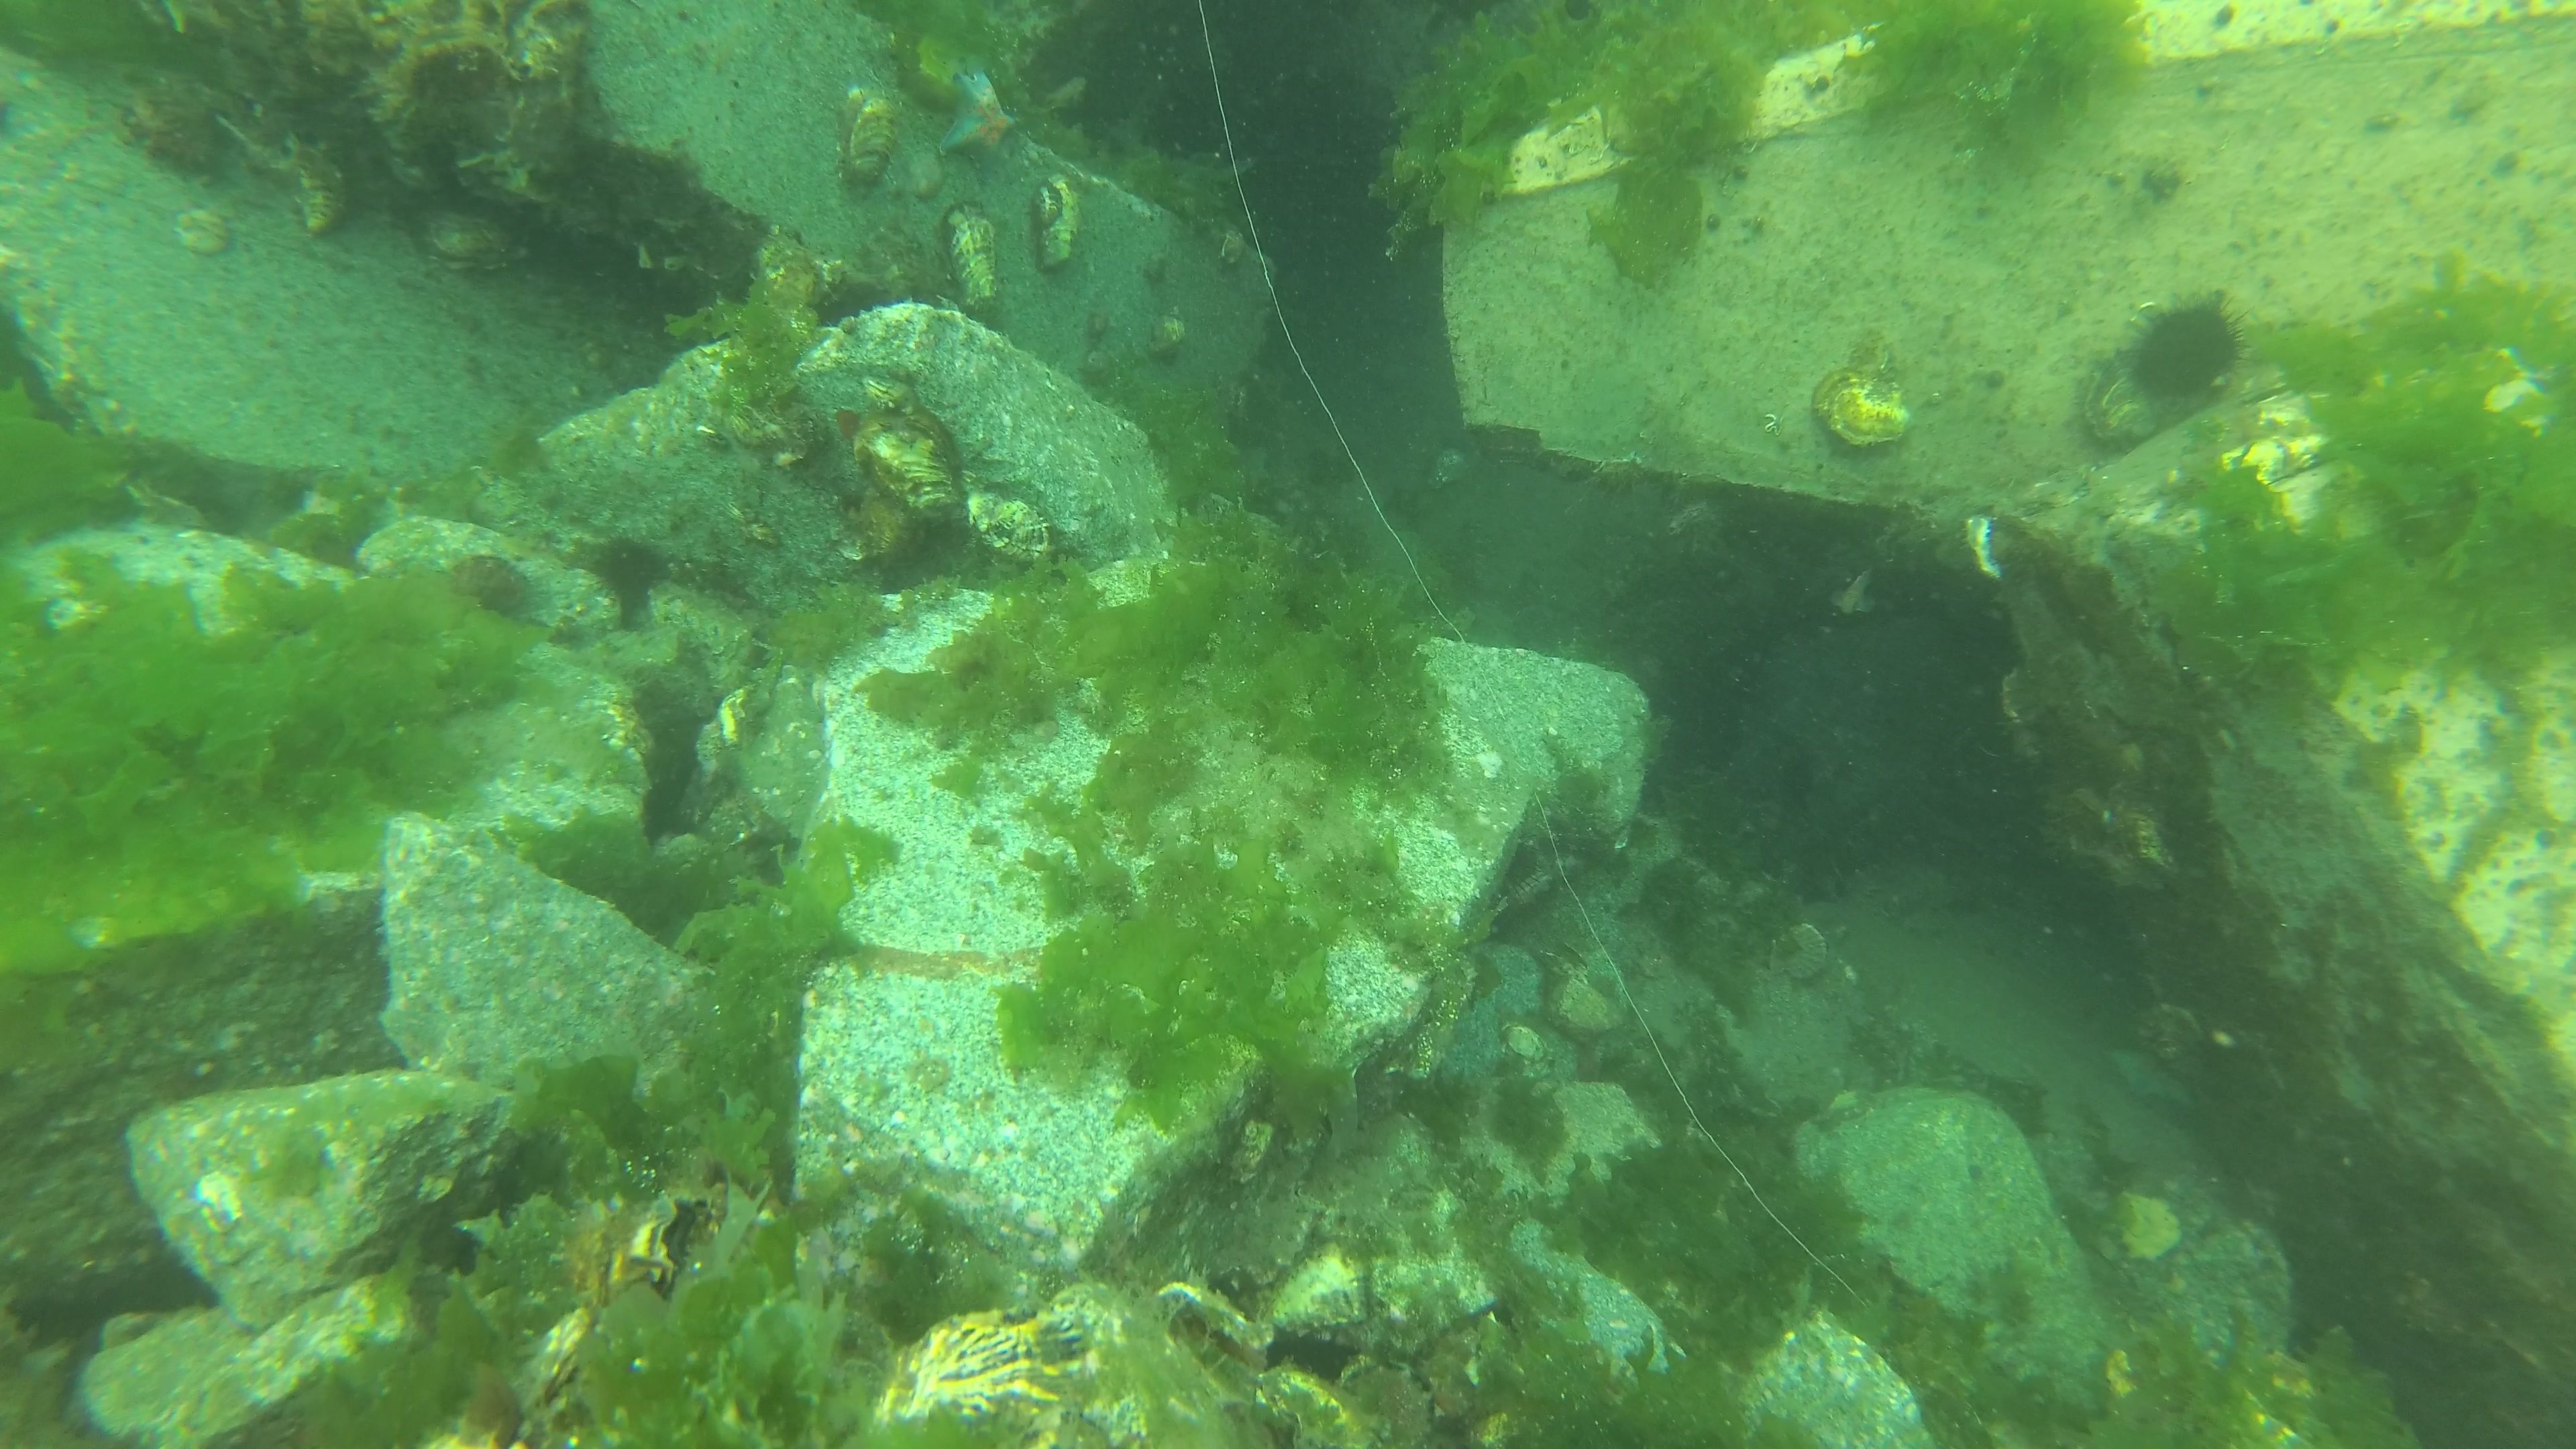echinus: (2114, 290, 2254, 409), (591, 531, 665, 612), (1504, 832, 1546, 897)
scallop: (1769, 922, 1829, 980)
starfish: (938, 67, 1019, 168)
